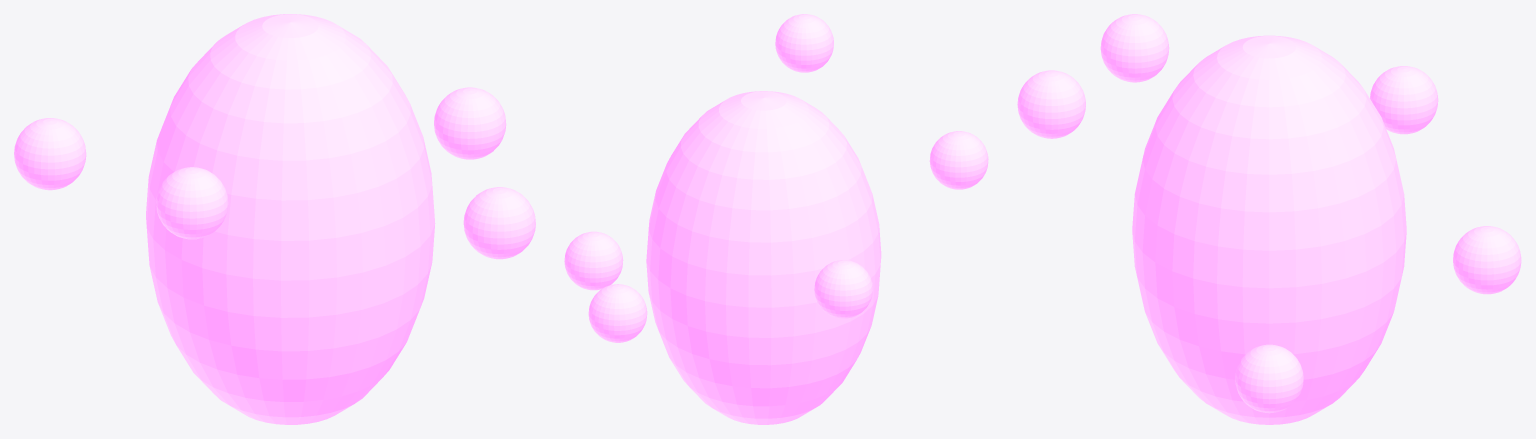
Rendered from magic_essence.glb.
3 renders of one model, left to right at view 1: azimuth 30°, elevation 25°; view 2: azimuth 150°, elevation 25°; view 3: azimuth 270°, elevation 25°, orthographic. The views are drawn at different scales.
Parts seen in each view (by area): view 1: Sphere, Sphere.003, Sphere.001, Sphere.004, Sphere.005; view 2: Sphere, Sphere.002, Sphere.004, Sphere.003, Sphere.005, Sphere.001; view 3: Sphere, Sphere.001, Sphere.002, Sphere.004, Sphere.005, Sphere.003.
Part boxes in pixels (<box>): Sphere: <box>146,14,435,424</box>; Sphere.003: <box>14,118,86,190</box>; Sphere.001: <box>463,187,535,259</box>; Sphere.004: <box>156,167,228,239</box>; Sphere.005: <box>434,87,506,159</box>; Sphere: <box>646,91,881,424</box>; Sphere.002: <box>588,284,647,342</box>; Sphere.004: <box>929,131,988,189</box>; Sphere.003: <box>814,260,872,318</box>; Sphere.005: <box>775,14,833,72</box>; Sphere.001: <box>564,231,623,290</box>; Sphere: <box>1132,35,1406,424</box>; Sphere.001: <box>1235,344,1303,413</box>; Sphere.002: <box>1453,226,1521,294</box>; Sphere.004: <box>1100,14,1169,82</box>; Sphere.005: <box>1017,70,1085,138</box>; Sphere.003: <box>1370,66,1438,134</box>.
Bounding box in the file's own units: 0.4218 × 0.36 × 0.4404.
